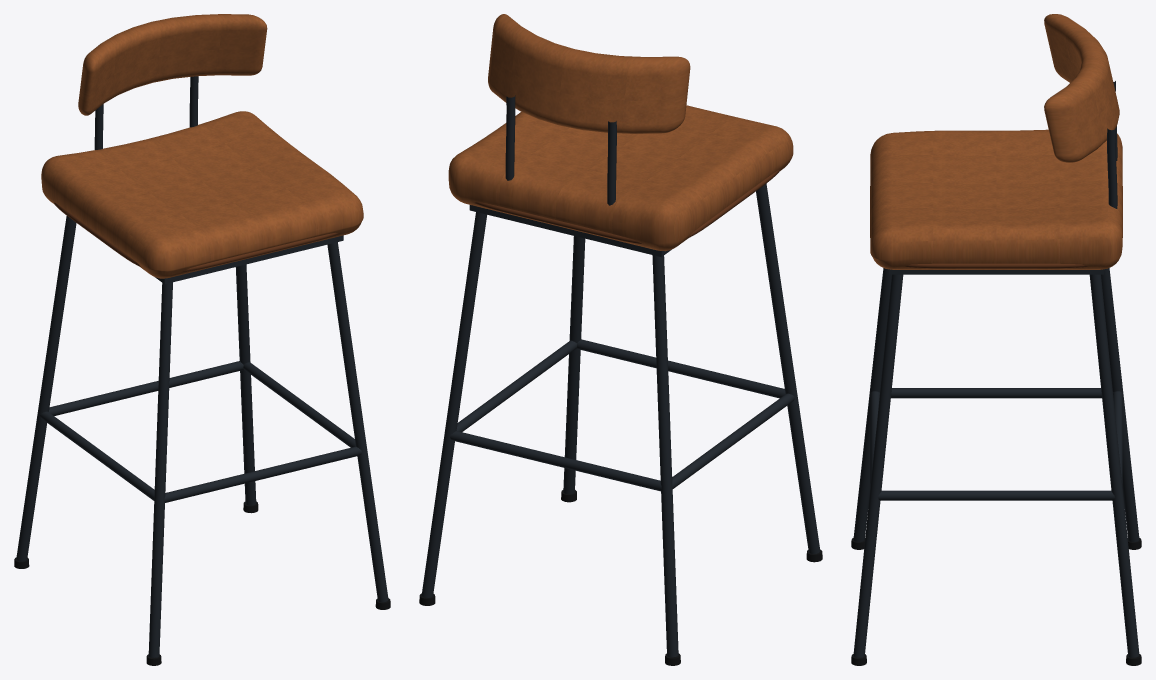
File: Office_Pantry_Bar_Stool.glb
The picture shows the model from 3 angles, left to right: view 1: azimuth 30°, elevation 25°; view 2: azimuth 150°, elevation 25°; view 3: azimuth 270°, elevation 25°; orthographic projection. The views are drawn at different scales.
Visible parts, largest first — view 1: Seat_Saddle_Cushion, Backrest_Lumbar, Leg_1, Leg_0, Leg_3, Leg_2, Footrest_Ring_0, Footrest_Ring_2, Footrest_Ring_1, Footrest_Ring_3, Seat_Welt, Seat_Pan; view 2: Seat_Saddle_Cushion, Backrest_Lumbar, Leg_3, Leg_2, Leg_1, Leg_0, Footrest_Ring_2, Footrest_Ring_0, Footrest_Ring_1, Footrest_Ring_3, Seat_Welt, Seat_Pan (+2 smaller); view 3: Seat_Saddle_Cushion, Backrest_Lumbar, Leg_0, Leg_2, Footrest_Ring_3, Leg_1, Leg_3, Footrest_Ring_1, Seat_Welt, Seat_Pan, Back_Support_R, Footrest_Ring_0 (+1 smaller).
Part boxes in pixels (x1=…): Seat_Saddle_Cushion: x1=41, y1=111, x2=363, y2=278; Backrest_Lumbar: x1=78, y1=14, x2=267, y2=115; Leg_1: x1=148, y1=282, x2=172, y2=657; Leg_0: x1=327, y1=242, x2=388, y2=602; Leg_3: x1=16, y1=216, x2=76, y2=561; Leg_2: x1=235, y1=264, x2=256, y2=505; Footrest_Ring_0: x1=164, y1=446, x2=362, y2=502; Footrest_Ring_2: x1=49, y1=361, x2=243, y2=415; Footrest_Ring_1: x1=40, y1=411, x2=154, y2=500; Footrest_Ring_3: x1=243, y1=362, x2=355, y2=447; Seat_Welt: x1=54, y1=202, x2=339, y2=271; Seat_Pan: x1=155, y1=235, x2=343, y2=284; Seat_Saddle_Cushion: x1=448, y1=105, x2=793, y2=251; Backrest_Lumbar: x1=488, y1=14, x2=690, y2=133; Leg_3: x1=652, y1=255, x2=678, y2=657; Leg_2: x1=421, y1=212, x2=486, y2=597; Leg_1: x1=756, y1=183, x2=820, y2=554; Leg_0: x1=563, y1=236, x2=585, y2=494; Footrest_Ring_2: x1=450, y1=431, x2=661, y2=491; Footrest_Ring_0: x1=577, y1=339, x2=785, y2=398; Footrest_Ring_1: x1=672, y1=393, x2=794, y2=488; Footrest_Ring_3: x1=456, y1=340, x2=576, y2=431; Seat_Welt: x1=473, y1=169, x2=780, y2=243; Seat_Pan: x1=469, y1=205, x2=671, y2=257; Seat_Saddle_Cushion: x1=870, y1=129, x2=1122, y2=269; Backrest_Lumbar: x1=1044, y1=14, x2=1119, y2=162; Leg_0: x1=853, y1=274, x2=903, y2=657; Leg_2: x1=1089, y1=274, x2=1139, y2=657; Footrest_Ring_3: x1=877, y1=490, x2=1115, y2=500; Leg_1: x1=853, y1=268, x2=891, y2=541; Leg_3: x1=1101, y1=268, x2=1139, y2=541; Footrest_Ring_1: x1=879, y1=388, x2=1113, y2=398; Seat_Welt: x1=870, y1=186, x2=1122, y2=268; Seat_Pan: x1=889, y1=269, x2=1103, y2=274; Back_Support_R: x1=1107, y1=128, x2=1117, y2=208; Footrest_Ring_0: x1=870, y1=391, x2=879, y2=486.
Bounding box in the file's own units: 0.4594 × 0.96 × 0.46.
Materials: 4 (1 with a texture image).
